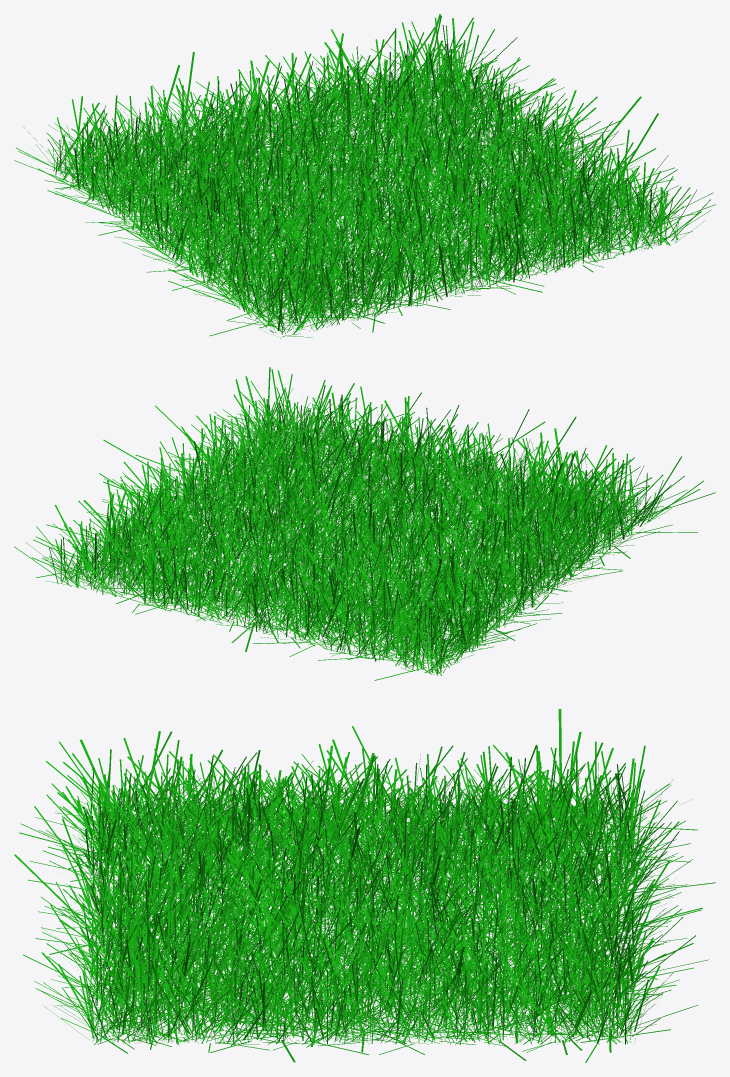
3 renders of one model, top to bottom at view 1: azimuth 30°, elevation 25°; view 2: azimuth 150°, elevation 25°; view 3: azimuth 270°, elevation 25°, orthographic. The views are drawn at different scales.
Parts seen in each view (by area): view 1: 平面.4614; view 2: 平面.4614; view 3: 平面.4614.
Boxes of the visible parts, x1=… form: 平面.4614: x1=14, y1=14, x2=715, y2=338; 平面.4614: x1=14, y1=367, x2=715, y2=680; 平面.4614: x1=14, y1=709, x2=715, y2=1062.
Bounding box in the file's own units: 265 × 39.37 × 258.
